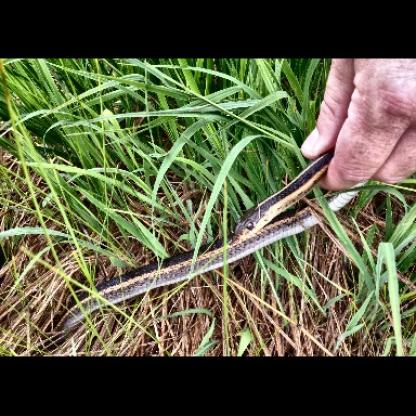Snake: (60, 137, 376, 319)
